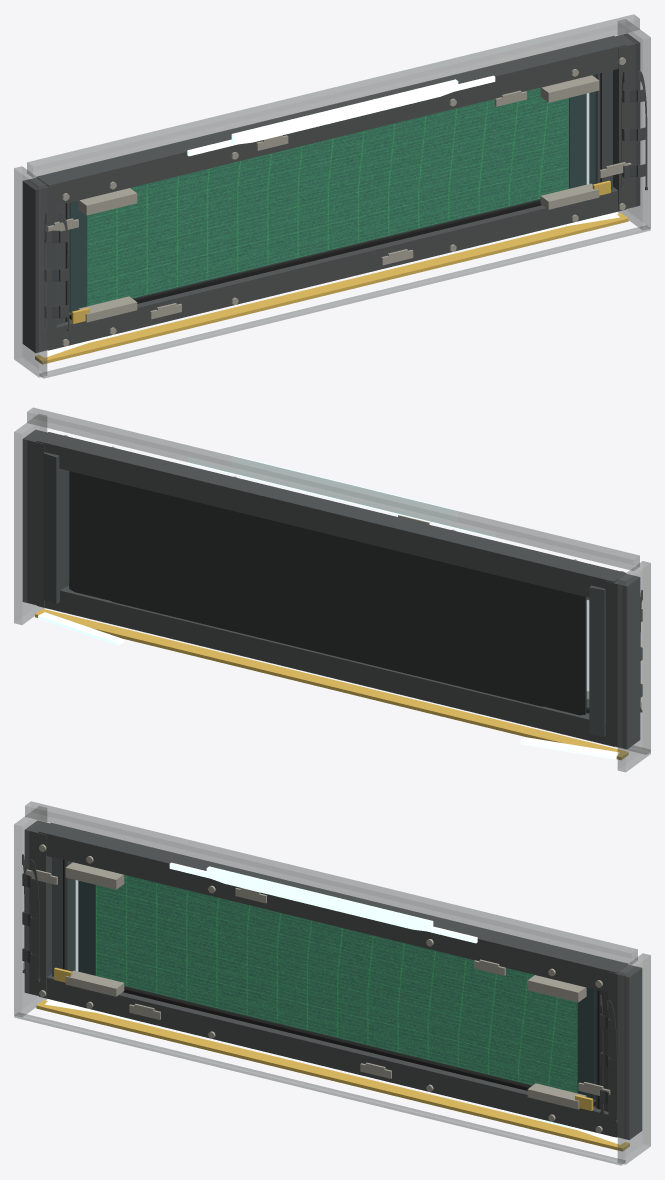
File: ck_win01.glb
3 views of the same model, one above another, from view 1: azimuth 30°, elevation 25°; view 2: azimuth 150°, elevation 25°; view 3: azimuth 330°, elevation 25° (orthographic).
Visible parts, largest first — view 1: single panoramic glass pane, asset SMP panoramic internal screen mesh, top armored lintel, bottom crash sill, ceiling edge context, left wall return context, top view main footprint marker, left outer post, floor edge context, right outer post, asset SMP top light insert mesh, right wall return context (+10 smaller); view 2: asset SMP panoramic internal screen mesh, top armored lintel, bottom crash sill, ceiling edge context, left wall return context, left outer post, top view main footprint marker, right outer post, right angled cheek post, right wall return context, asset SMP top light insert mesh, left angled cheek post (+5 smaller); view 3: single panoramic glass pane, asset SMP panoramic internal screen mesh, top armored lintel, bottom crash sill, ceiling edge context, right wall return context, top view main footprint marker, right outer post, floor edge context, left outer post, asset SMP top light insert mesh, left wall return context (+10 smaller).
Part boxes in pixels (x1,y1,x2,y2): single panoramic glass pane: (70,74,595,314); asset SMP panoramic internal screen mesh: (69,88,586,313); top armored lintel: (36,36,626,205); bottom crash sill: (48,187,625,350); ceiling edge context: (27,14,639,177); left wall return context: (14,166,47,377); top view main footprint marker: (35,213,628,364); left outer post: (22,178,56,353); floor edge context: (39,225,650,378); right outer post: (613,33,640,210); asset SMP top light insert mesh: (231,79,458,144); right wall return context: (618,19,650,229); asset SMP panoramic internal screen mesh: (69,471,586,715); top armored lintel: (36,432,626,601); bottom crash sill: (37,586,614,746); ceiling edge context: (27,407,639,570); left wall return context: (617,561,650,772); left outer post: (606,574,640,749); top view main footprint marker: (35,609,628,759); right outer post: (22,429,47,606); right angled cheek post: (43,452,69,603); right wall return context: (14,414,47,624); asset SMP top light insert mesh: (231,455,458,520); left angled cheek post: (589,585,605,736); single panoramic glass pane: (69,861,594,1101); asset SMP panoramic internal screen mesh: (78,875,595,1100); top armored lintel: (38,823,628,992); bottom crash sill: (39,974,616,1137); ceiling edge context: (25,801,637,964); right wall return context: (617,953,650,1164); top view main footprint marker: (36,1000,629,1151); right outer post: (608,965,642,1140); floor edge context: (14,1012,625,1165); left outer post: (24,820,51,997); asset SMP top light insert mesh: (206,866,433,931); left wall return context: (14,806,46,1016).
Size of the model in its own units: 10.38 by 3.31 by 0.8563.
9 materials, 1 textured.
